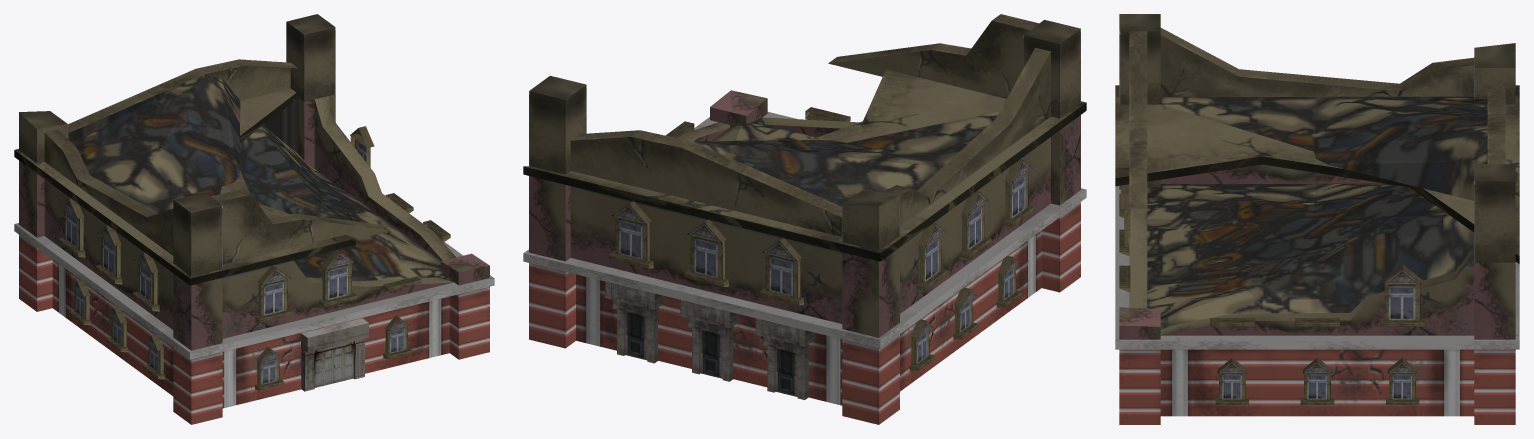
File: Building03_5.FBX
3 views of the same model, side by side, from view 1: azimuth 30°, elevation 25°; view 2: azimuth 150°, elevation 25°; view 3: azimuth 270°, elevation 25° (orthographic). The views are drawn at different scales.
Parts seen in each view (by area): view 1: Building5; view 2: Building5; view 3: Building5.
Boxes of the visible parts, x1,y1,x2,y2 form: Building5: [14, 14, 494, 424]; Building5: [523, 14, 1086, 424]; Building5: [1115, 14, 1519, 424].
Bounding box in the file's own units: 9.02 × 6 × 9.02.
